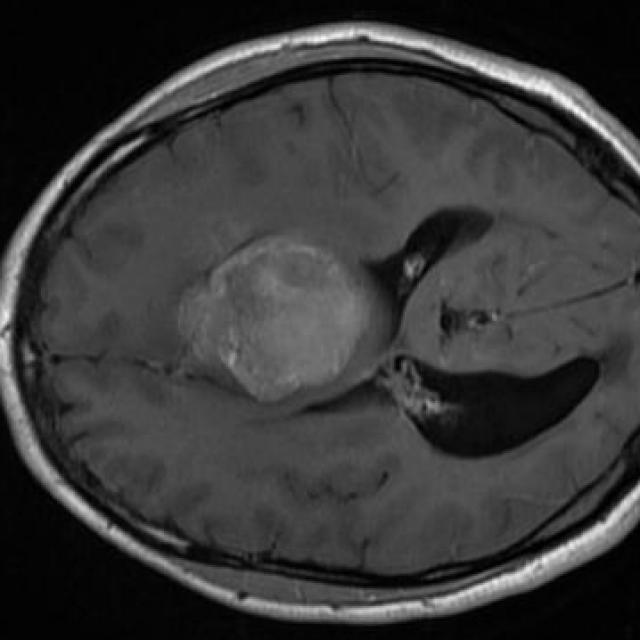meningioma: (176, 241, 365, 403)
